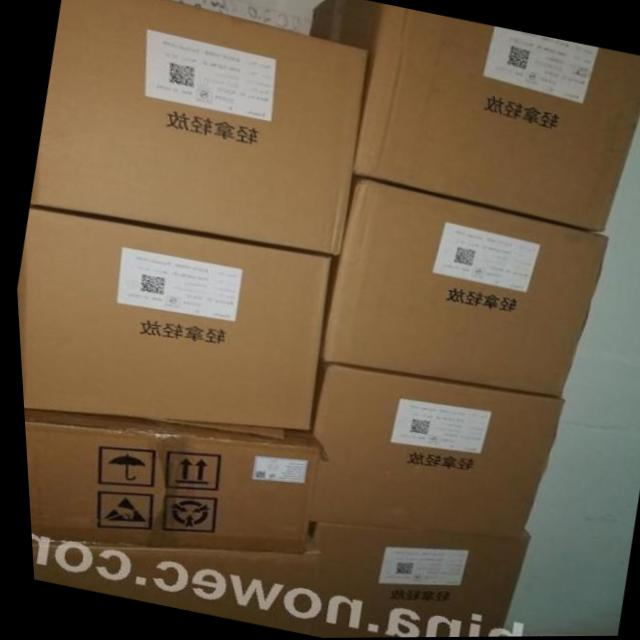box: (27, 0, 366, 256), (308, 0, 640, 231), (13, 201, 333, 429), (316, 174, 606, 398), (302, 363, 558, 538), (19, 405, 313, 552), (25, 531, 313, 634), (297, 518, 522, 638)
